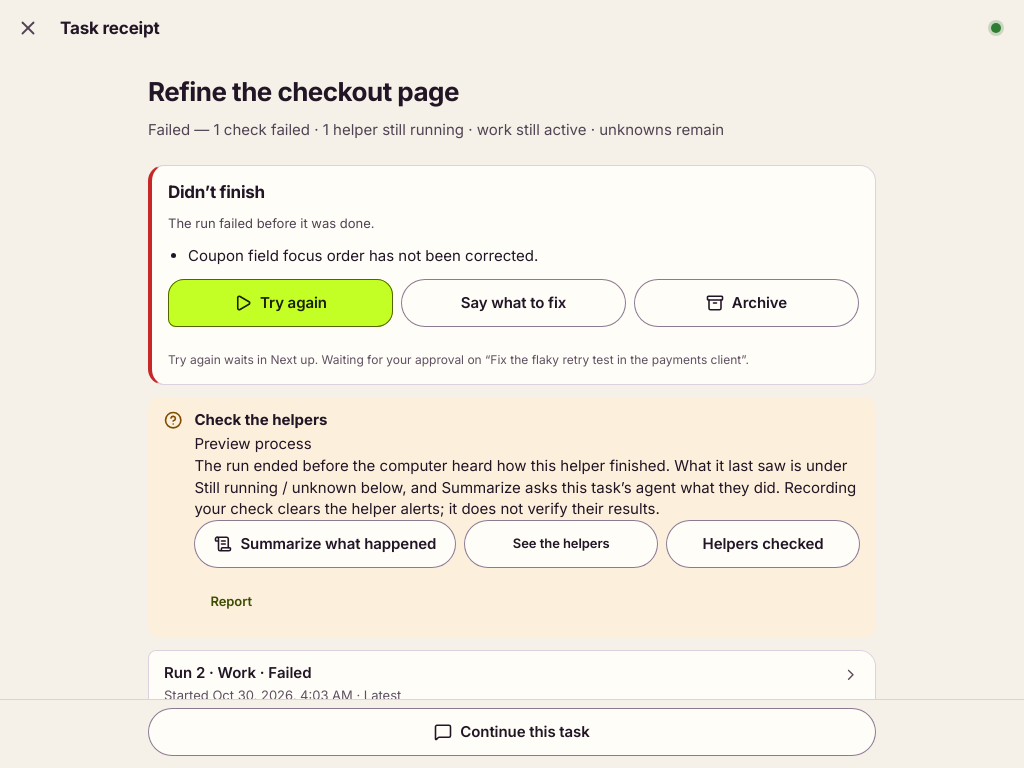
Scenario: keeps earlier receipts reachable and settles every completion for the task on open
Click the button with aria-label "Choose a run: showing Run 2,": (238, 673) [148, 650, 876, 717]
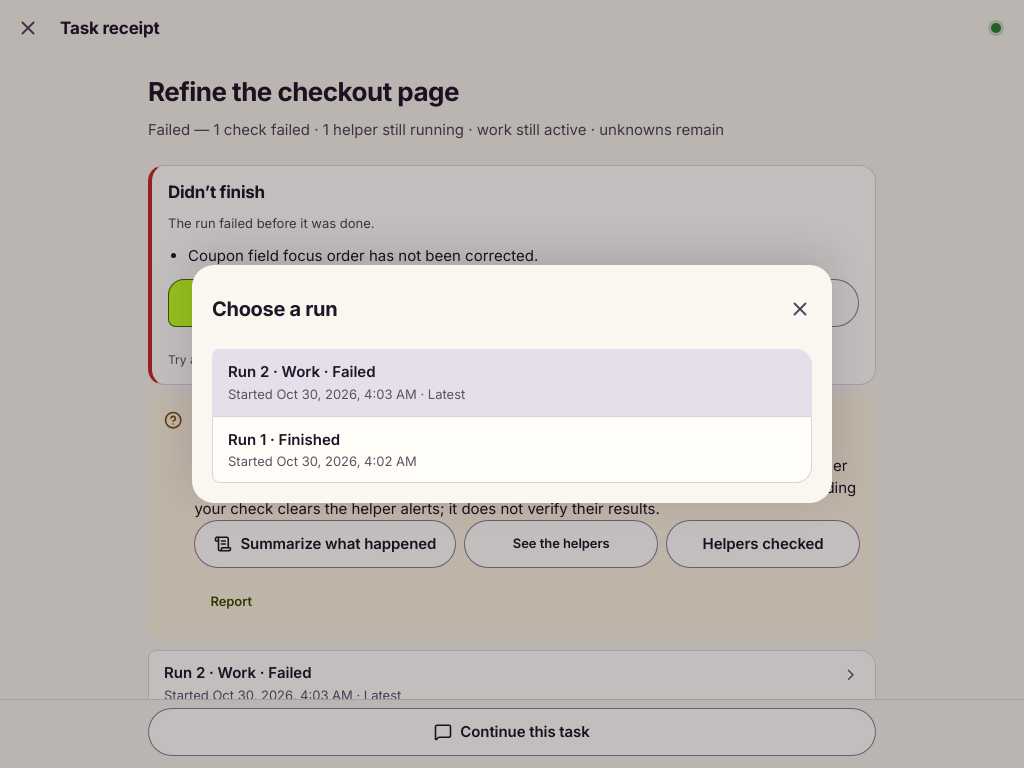
Check: the number of buttons "Run 2 · Work · Failed Started Oct 30, 2026, 4:03 AM · Latest" is 1, box [212, 349, 812, 416]
Run 1 was recorded without its mode and is no longer current, so no mode is claimed for it.
Click the button with aria-label "Run 1, Finished, started ": (284, 439) [212, 416, 812, 483]
Wait 900 ms
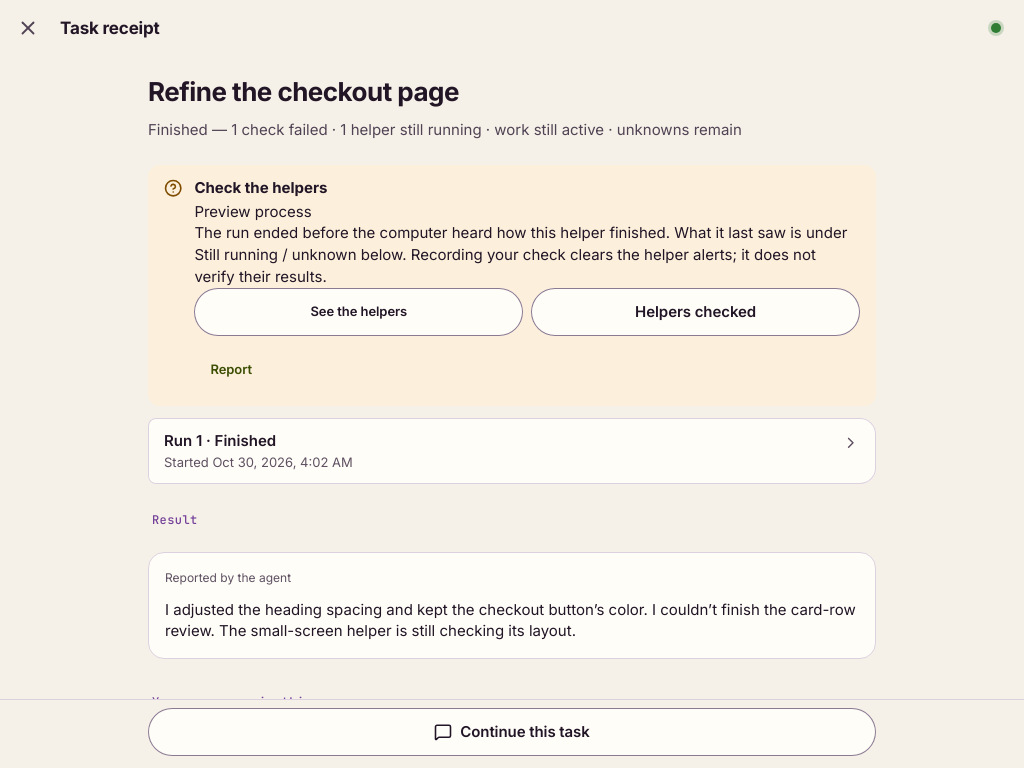
Check: the text "I adjusted the heading spacing and kept the checkout button’s color. I couldn’t finish the card-row review. The small-sc" is shown, box [165, 600, 856, 640]
Check: the text with class "work-receipt-state" shows "Finished", box [148, 120, 742, 139]
